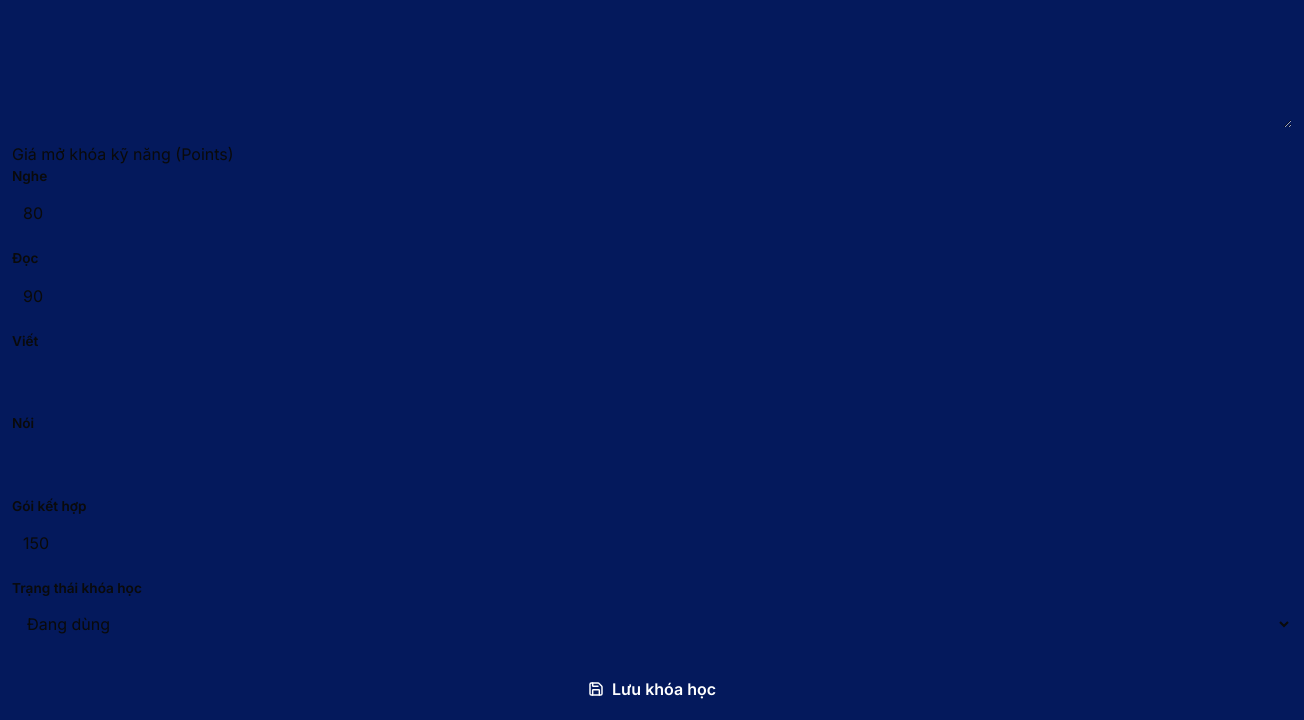
Test: CourseForm unlock pricing › rejects a combo price below the highest skill price
(page scrolled)
Replace the text in the number field labelled "Gói kết hợp" with "80" at (652, 543), box [12,522,1292,564]
(page scrolled)
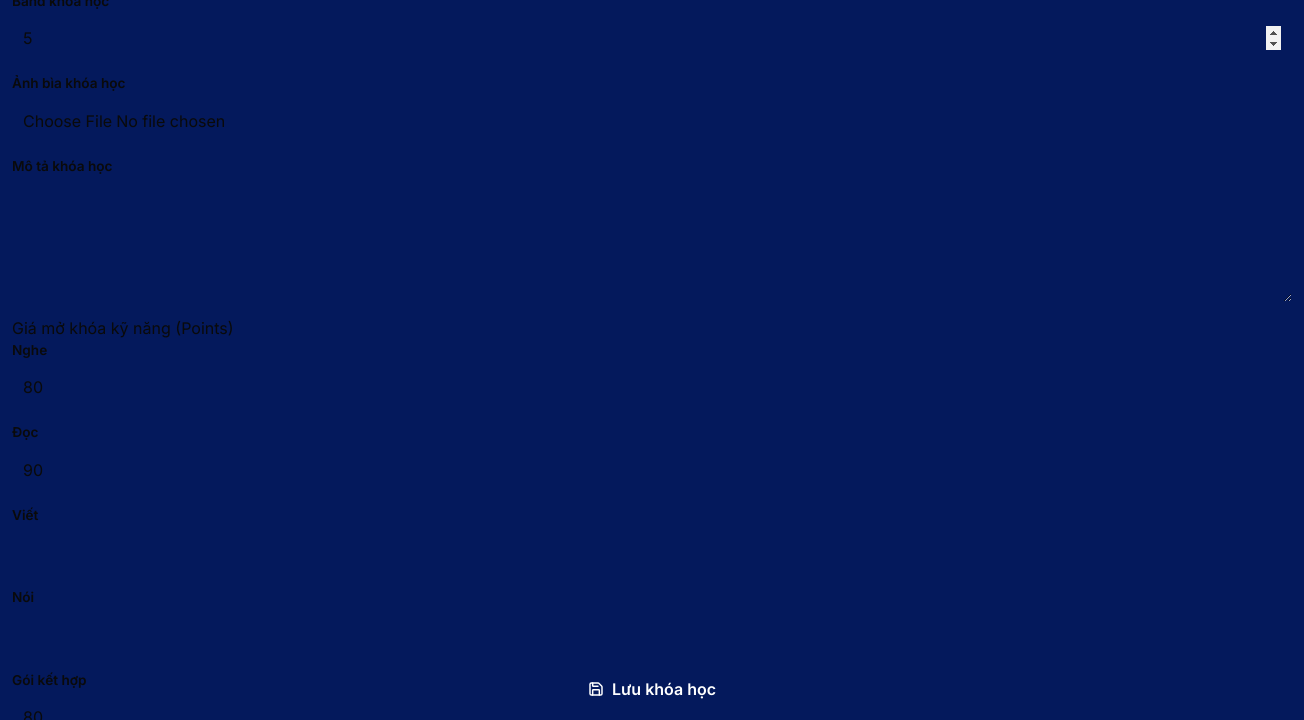
Submit the form
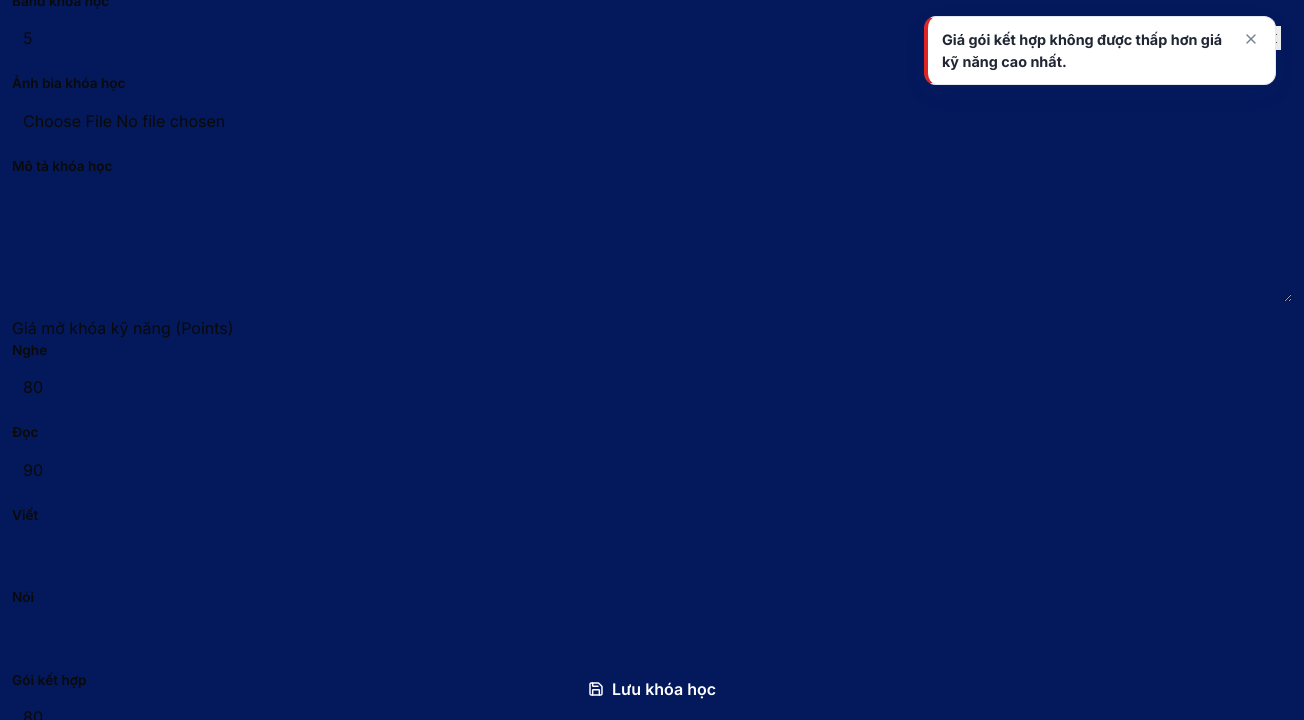
Expected: the message shows "không được thấp hơn", [942,31,1222,70]
